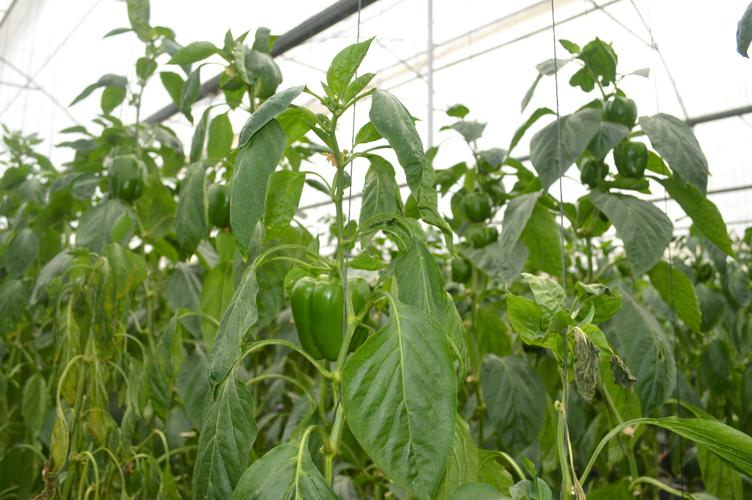BellPepper: (293, 278, 374, 355), (105, 155, 145, 199), (456, 191, 499, 222), (599, 95, 640, 127), (612, 144, 649, 177), (204, 185, 233, 226)
